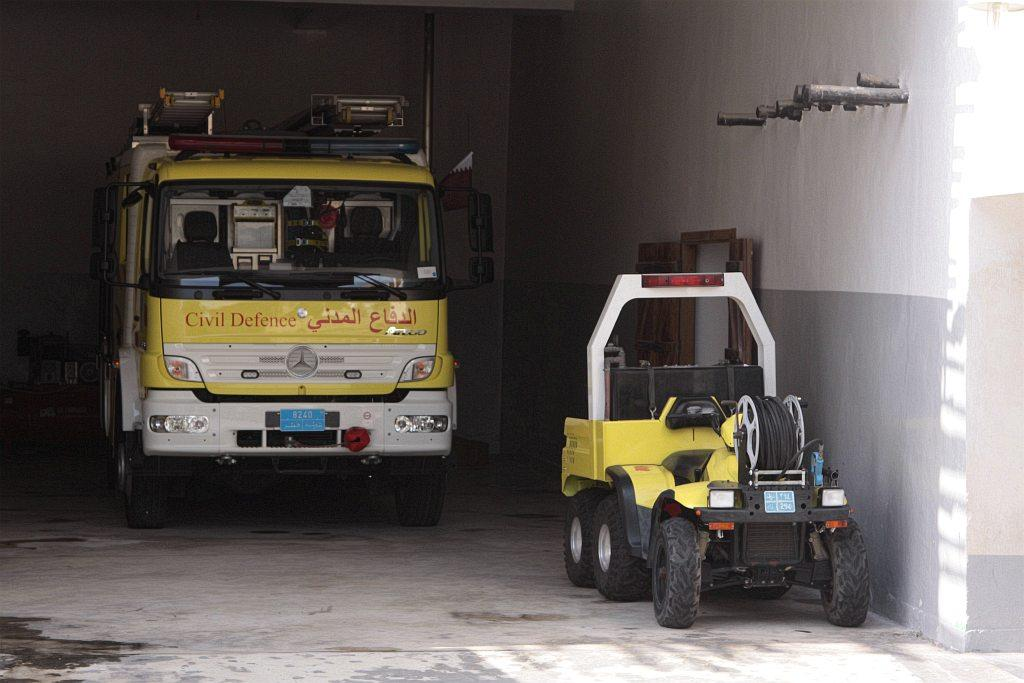firetruck_off: (86, 83, 498, 526)
